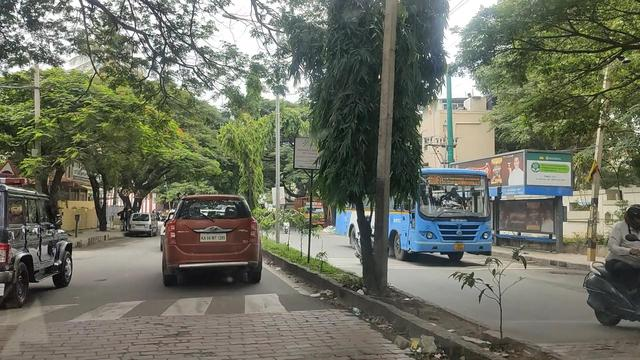LMV: (168, 198, 265, 283), (0, 188, 53, 300)
SpeedBump: (53, 282, 300, 316)
